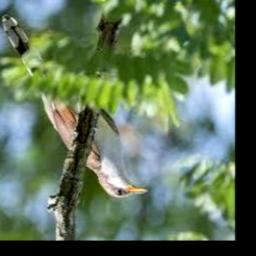Cuckoo: (3, 14, 149, 198)
